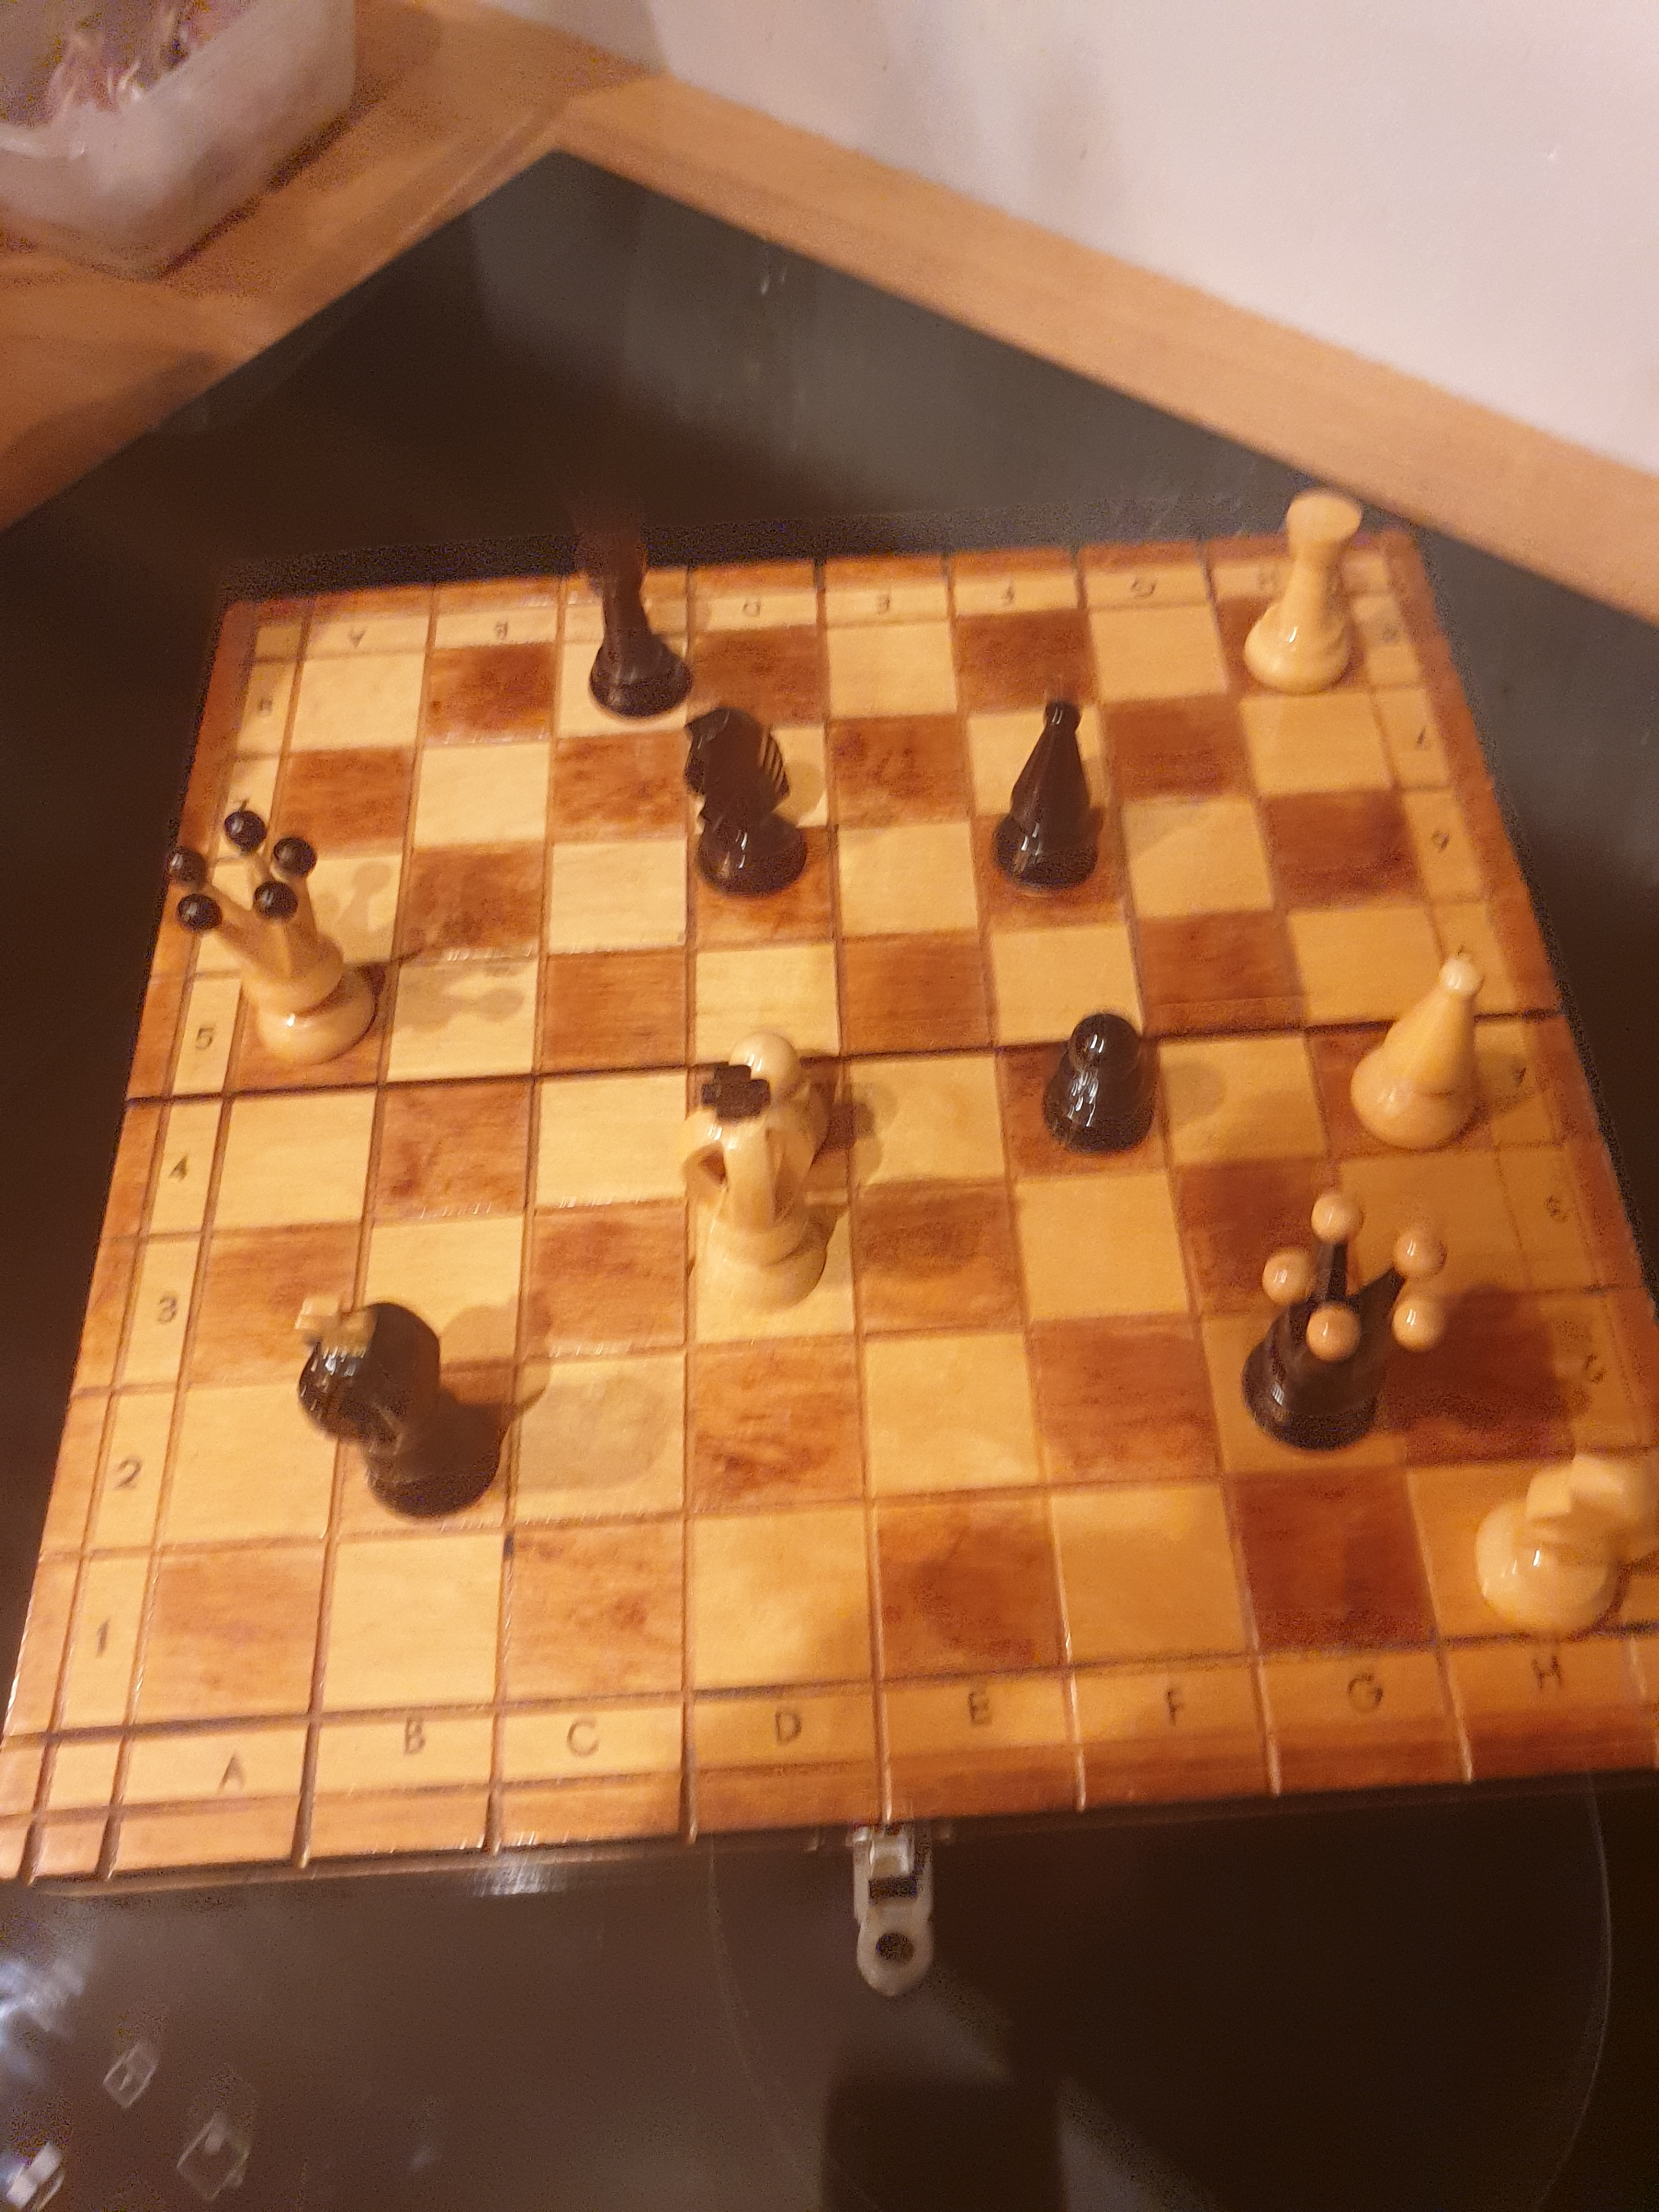bbishop: (978, 689, 1113, 906)
bknight: (675, 698, 817, 906)
bpawn: (1036, 1003, 1167, 1173)
bqueen: (1229, 1175, 1461, 1466)
brook: (560, 513, 712, 731)
person: (276, 1272, 520, 1539)
wbishop: (1338, 940, 1503, 1164)
wking: (669, 1064, 838, 1318)
wknight: (1466, 1441, 1659, 1645)
wpawn: (706, 1008, 849, 1186)
wqueen: (158, 798, 396, 1086)
wrook: (1240, 469, 1370, 703)
